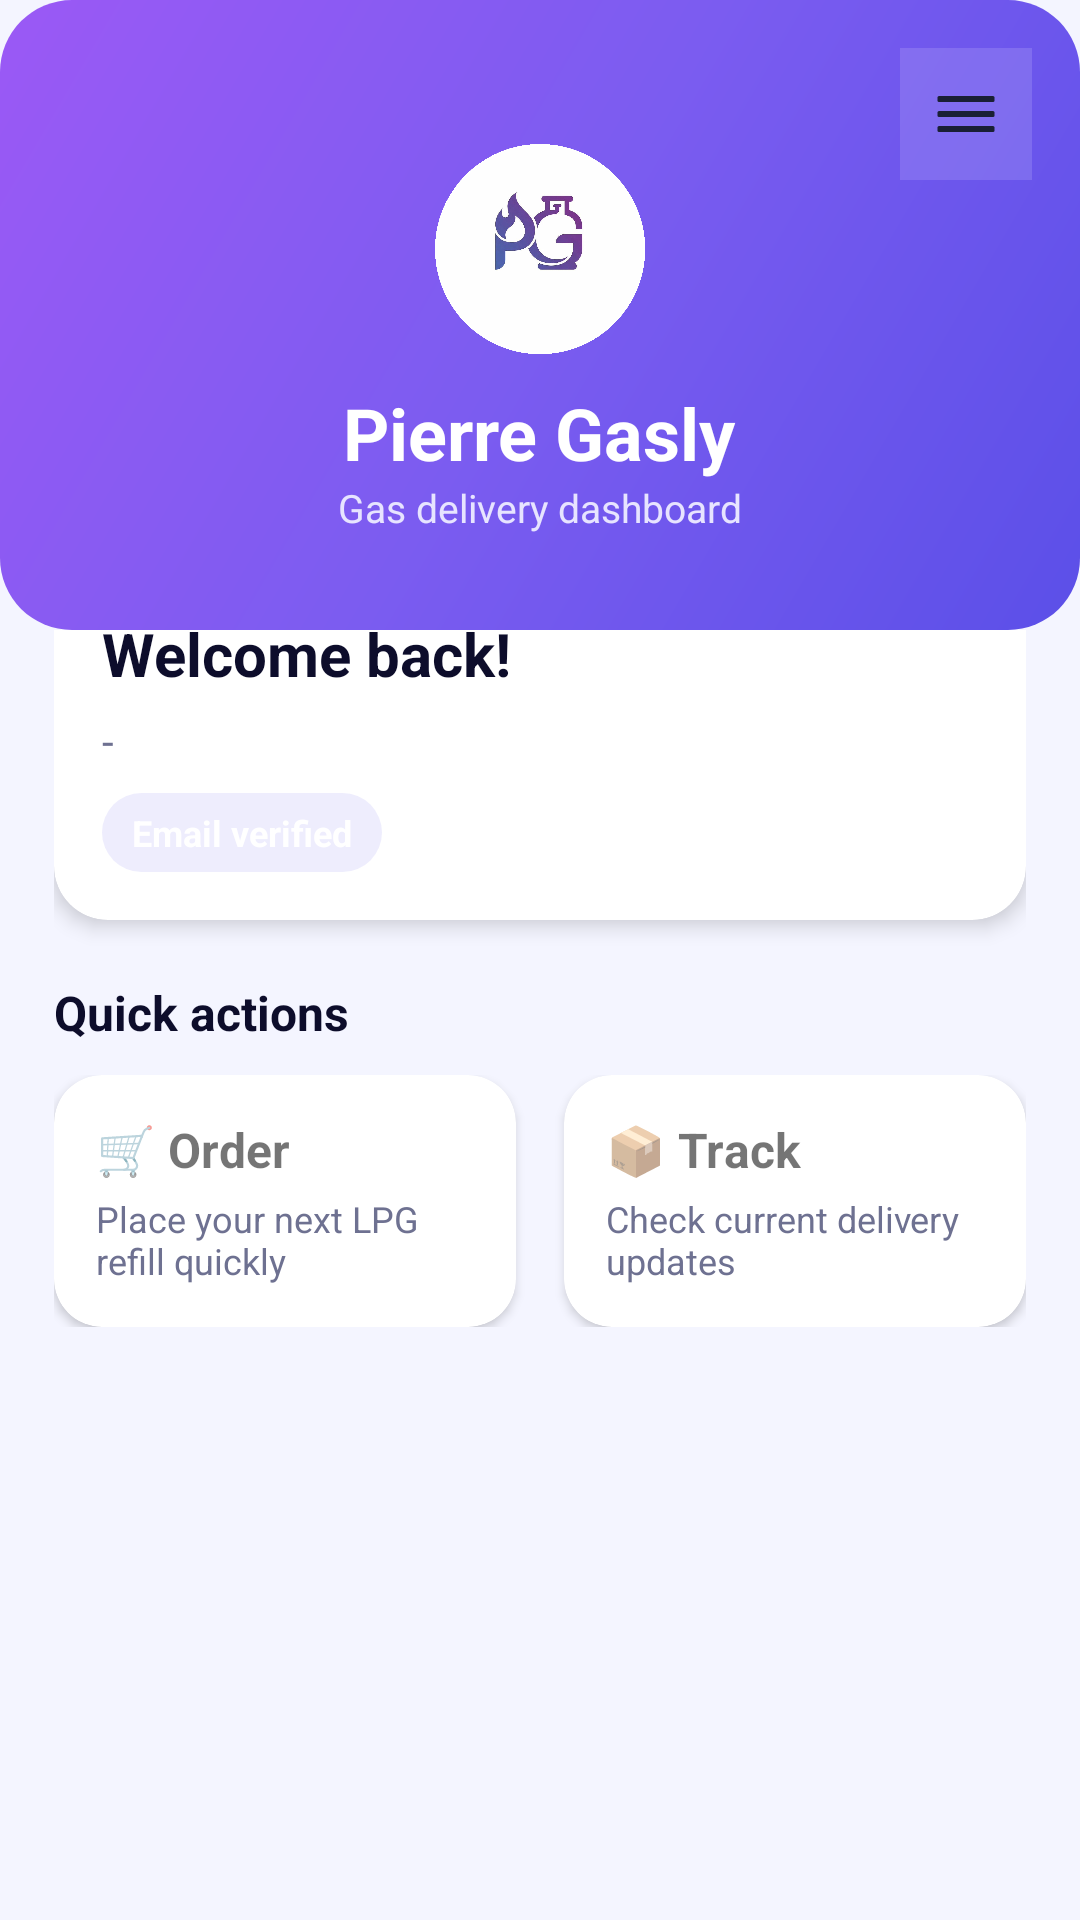

Point at icon controls on the screen. Image size 1080 x 1920, points as (x=x, y=y).
Menu: (x=966, y=114)
